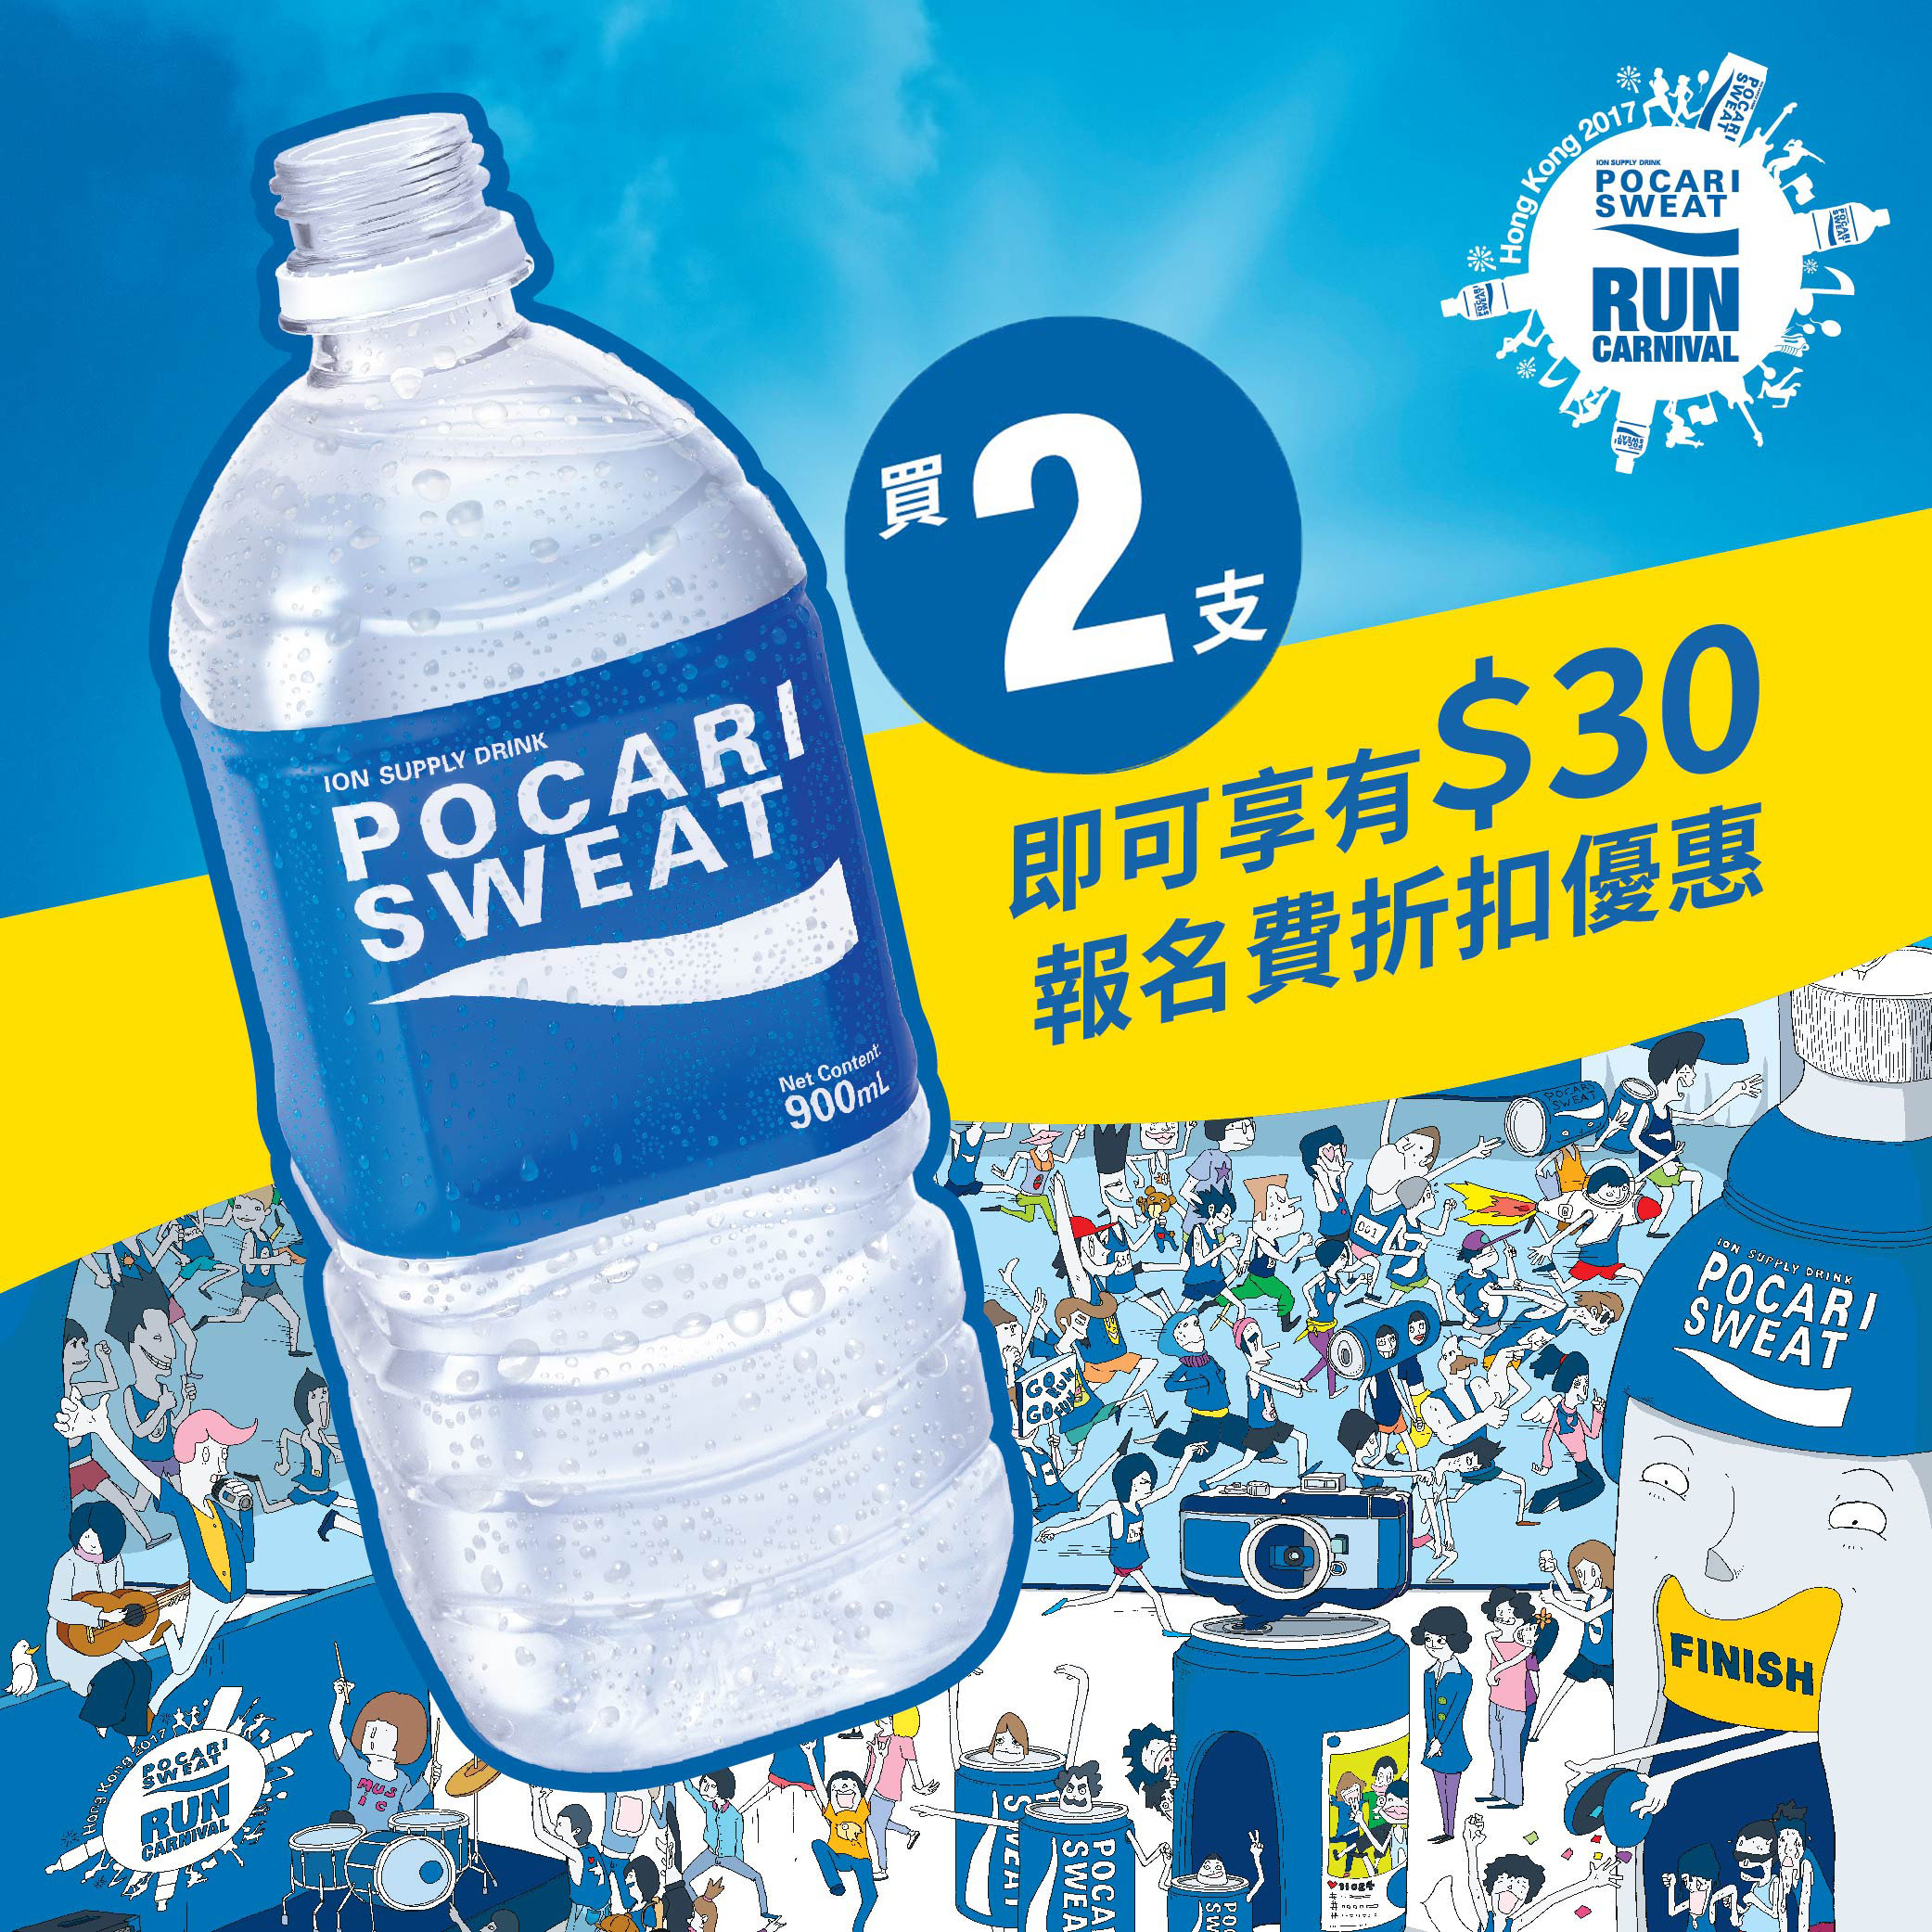POCARI SWEAT: (182, 76, 1037, 1787)
